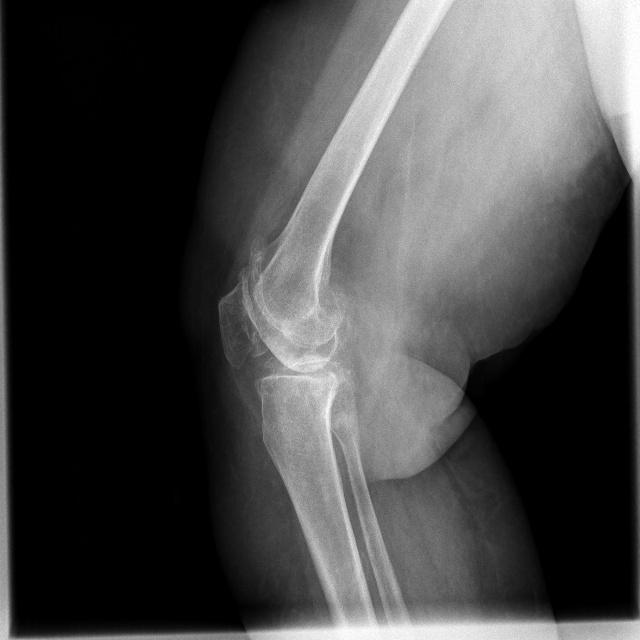Knee: (214, 255, 359, 415)
